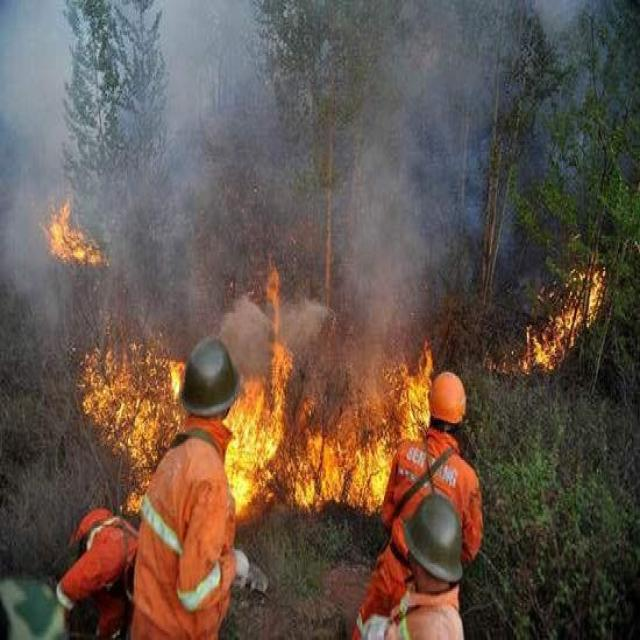fire: (222, 281, 437, 519), (84, 330, 184, 494), (498, 250, 605, 374), (36, 194, 100, 263)
other: (350, 366, 474, 632), (145, 336, 249, 636), (52, 482, 138, 634)
